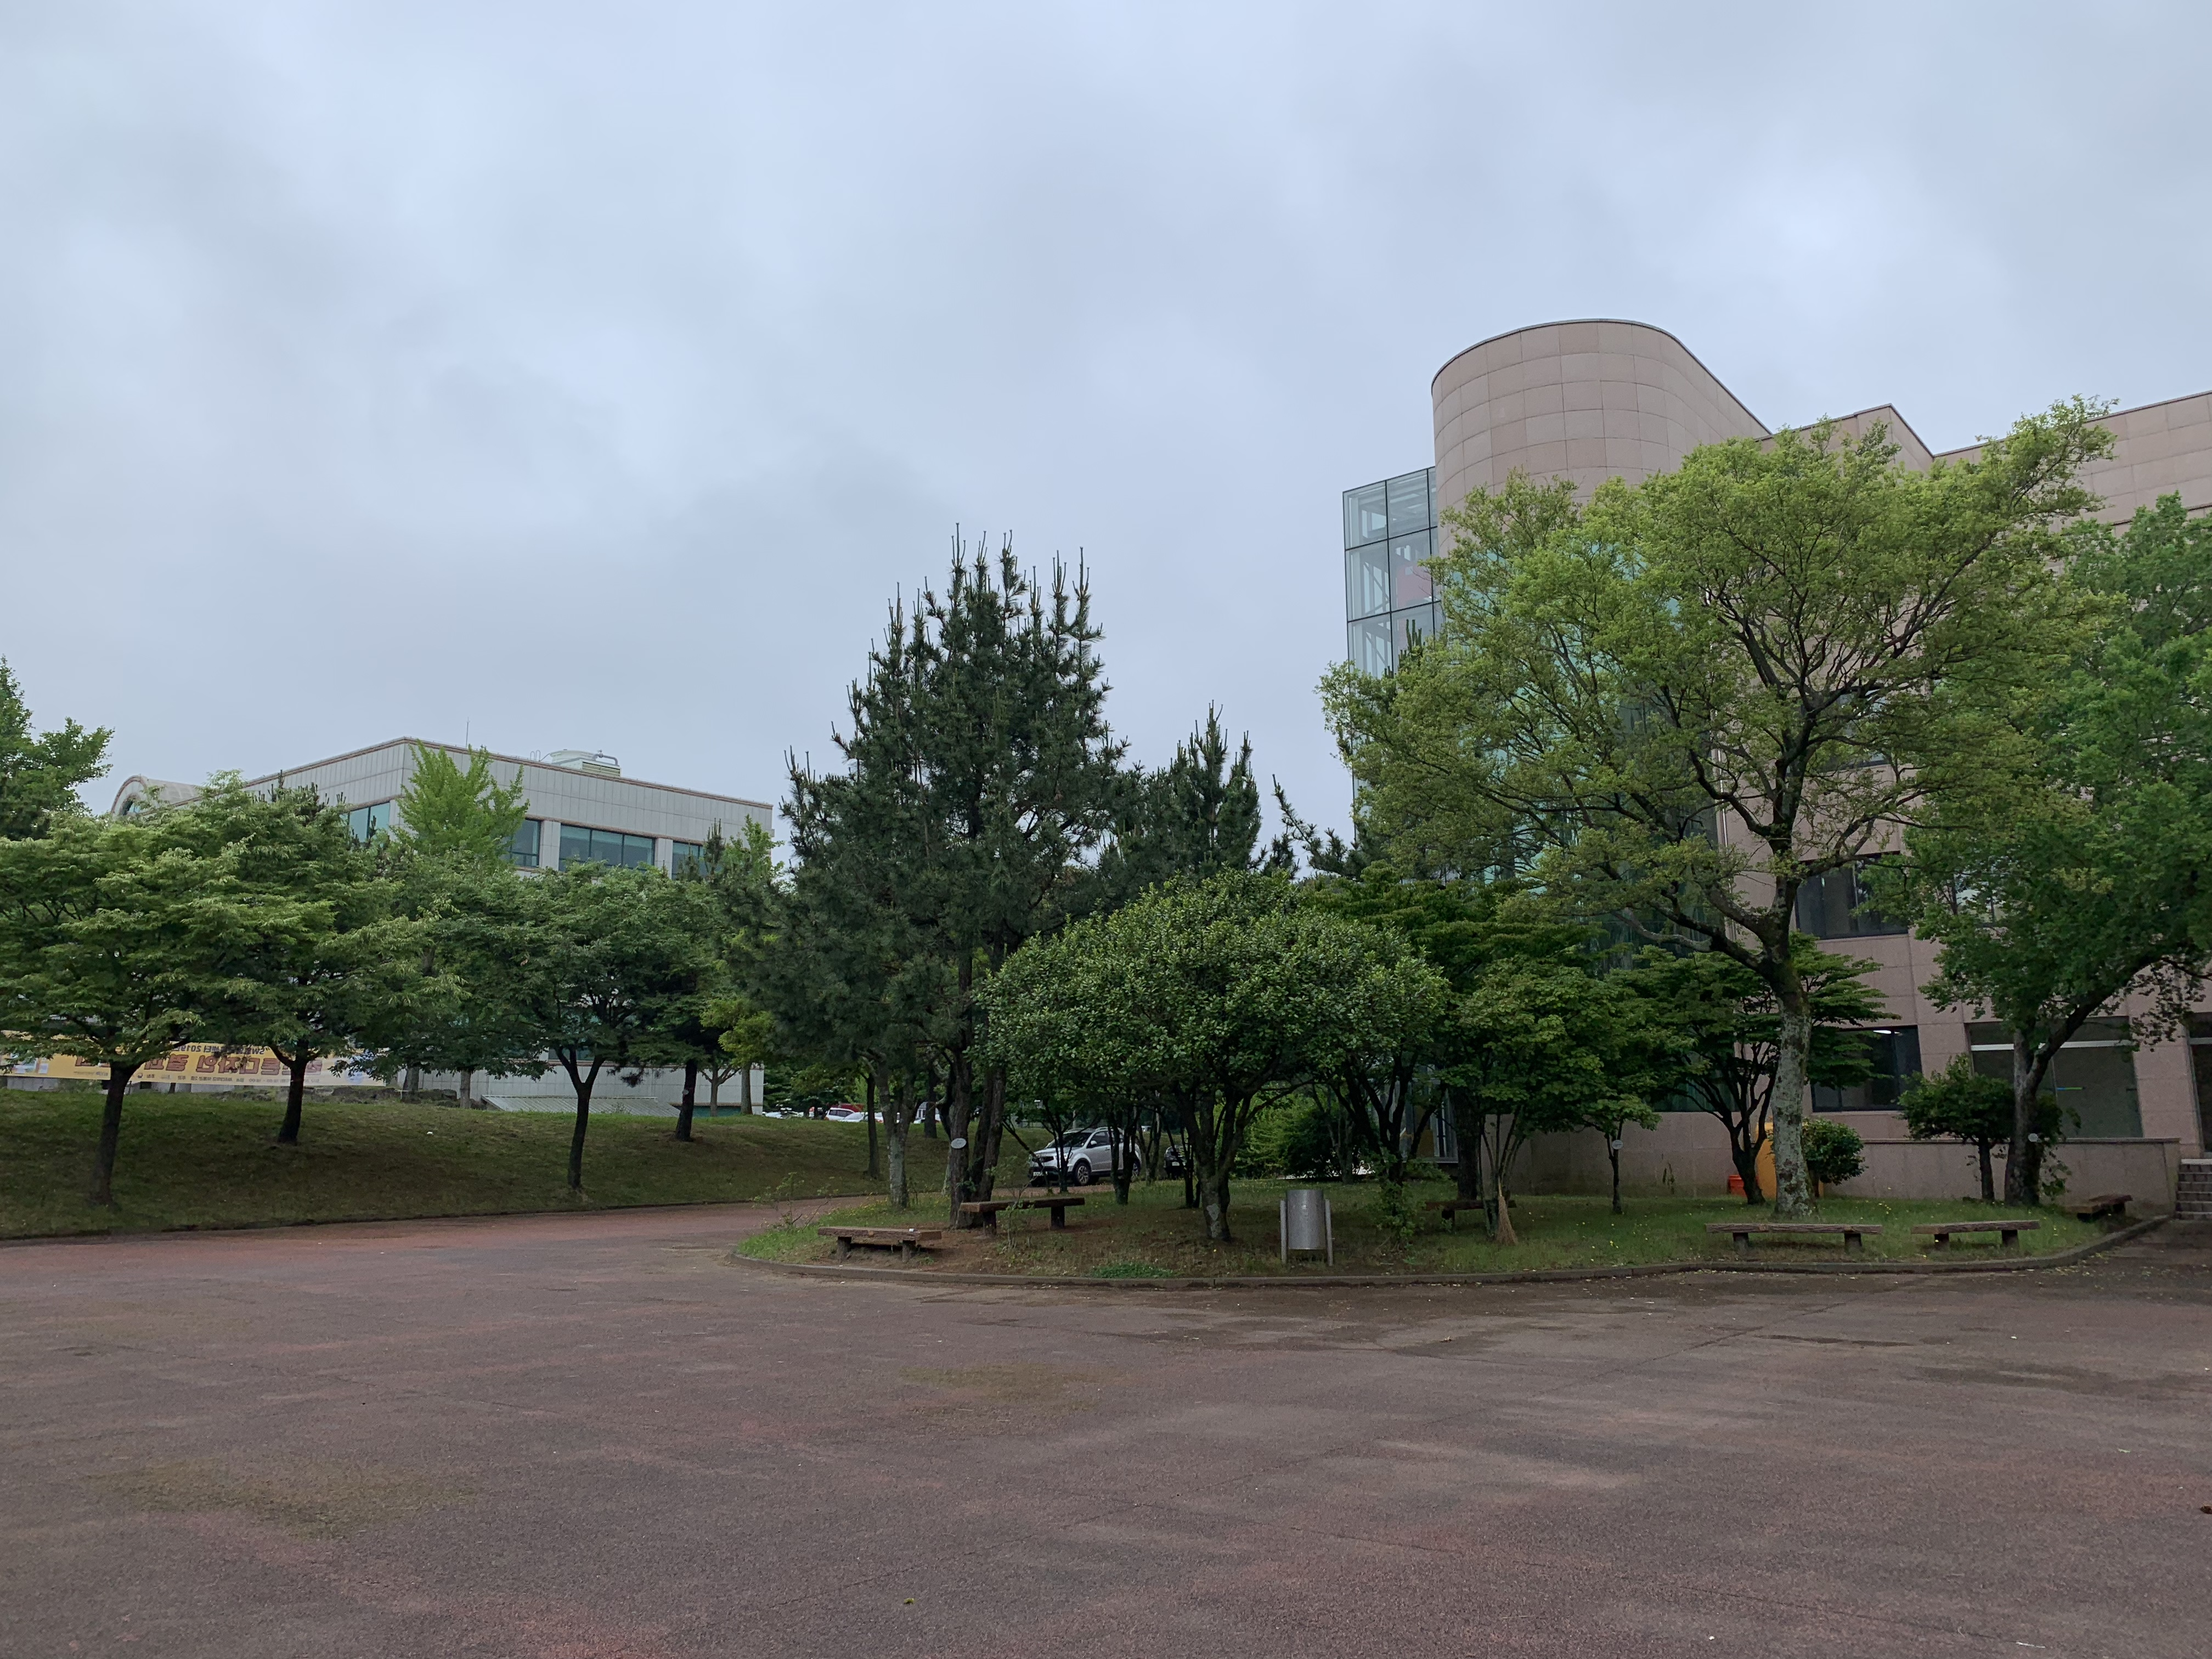Joint Experimental Labs: (1277, 296, 1738, 741)
Second Library: (111, 713, 792, 897)
